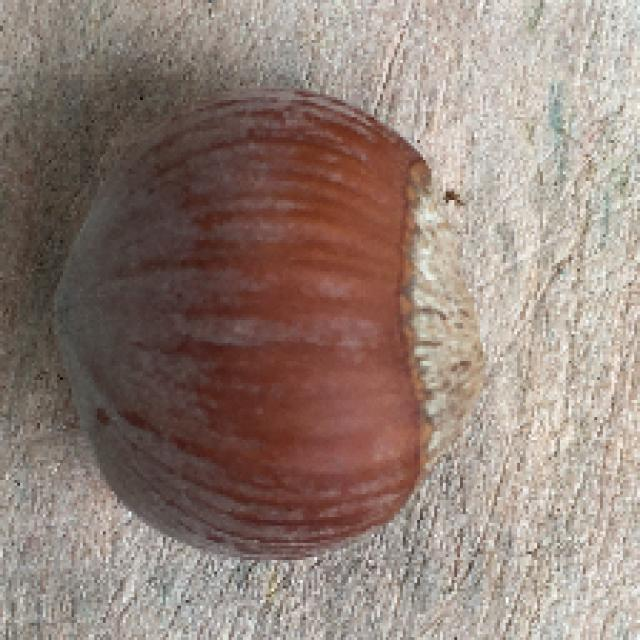QualityHazelnut: (55, 91, 491, 561)
